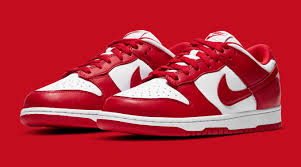nike: (216, 68, 281, 108)
